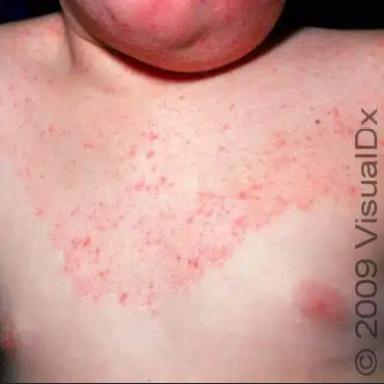Tinea-Corporis: (0, 15, 384, 315)
